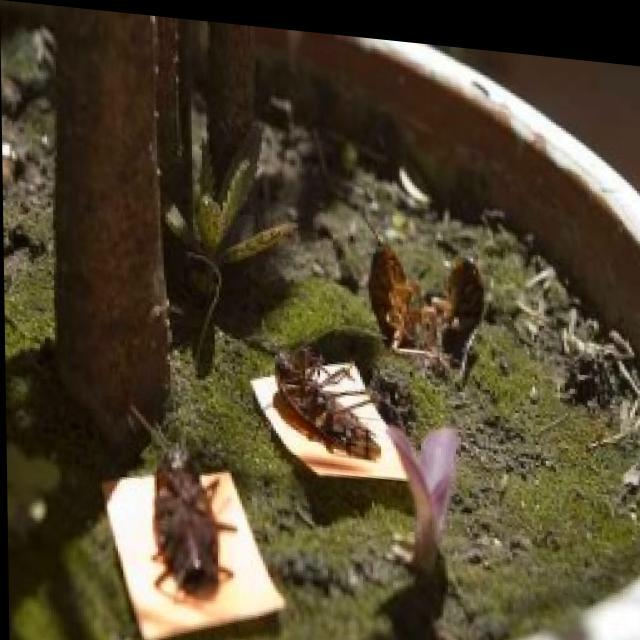cockroach: (133, 408, 243, 625), (265, 344, 393, 479), (353, 202, 436, 360), (425, 228, 504, 390)
